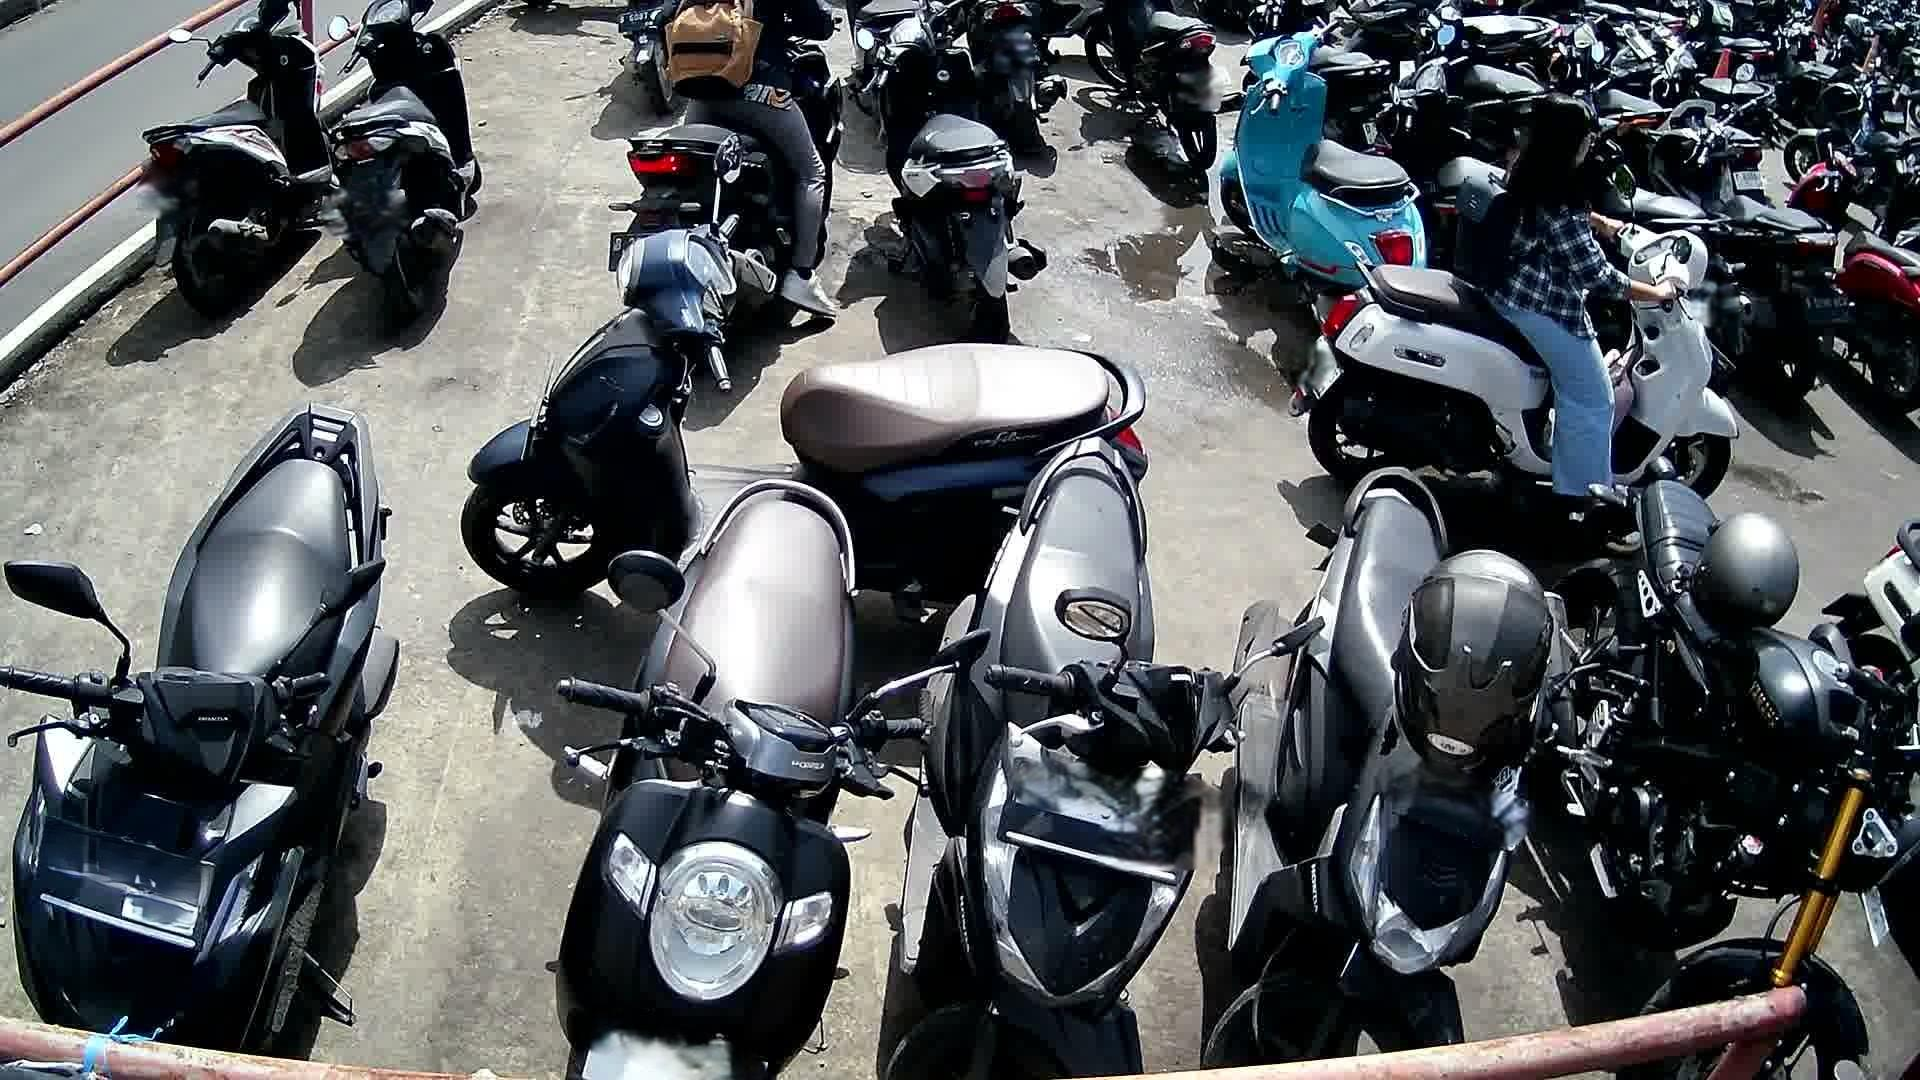motorcycle: (460, 131, 1147, 600), (0, 400, 400, 1047), (882, 433, 1266, 1080), (1543, 456, 1920, 1080), (1204, 464, 1581, 1080), (555, 480, 923, 1080), (1287, 219, 1741, 501), (1636, 99, 1857, 410), (855, 1, 1050, 339), (1217, 16, 1427, 326), (603, 40, 848, 298), (142, 1, 323, 314), (324, 0, 481, 320), (1783, 127, 1920, 415), (1365, 21, 1502, 227)
